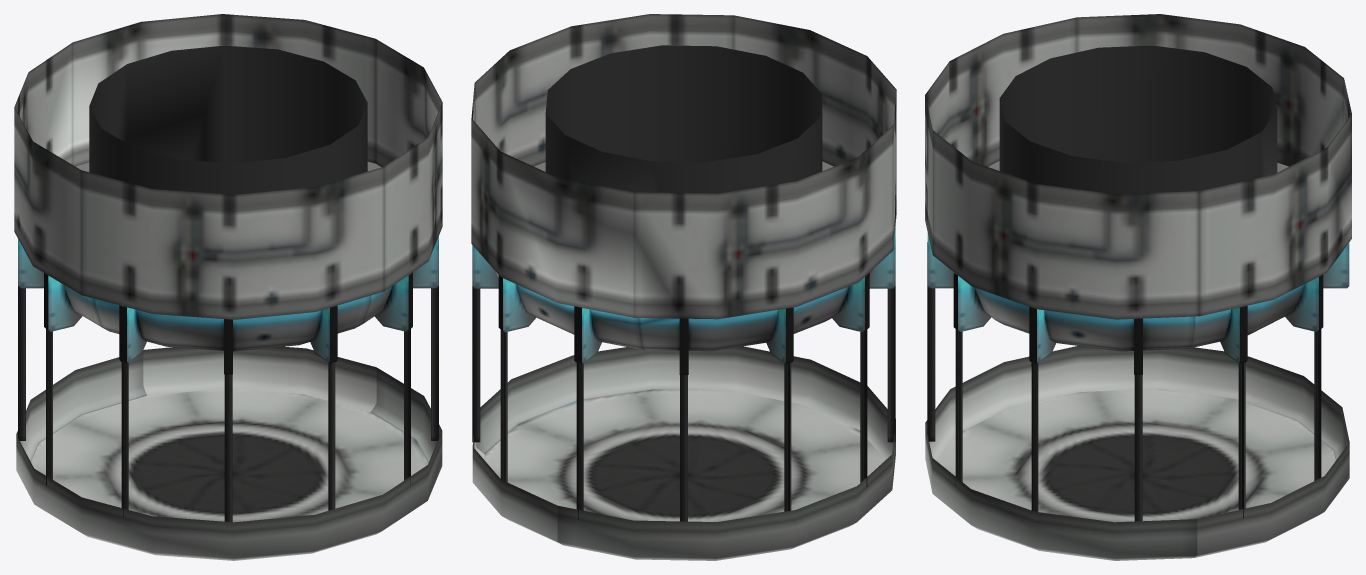
The model's file is dropper.fbx.
The picture shows the model from 3 angles, left to right: view 1: azimuth 30°, elevation 25°; view 2: azimuth 150°, elevation 25°; view 3: azimuth 270°, elevation 25°; orthographic projection.
Parts seen in each view (by area): view 1: Cylinder.015; view 2: Cylinder.015; view 3: Cylinder.015.
Part boxes in pixels (x1,y1,x2,y2): Cylinder.015: (14, 14, 442, 560); Cylinder.015: (471, 14, 896, 560); Cylinder.015: (925, 14, 1351, 560).
Bounding box in the file's own units: 388 × 372 × 388.
